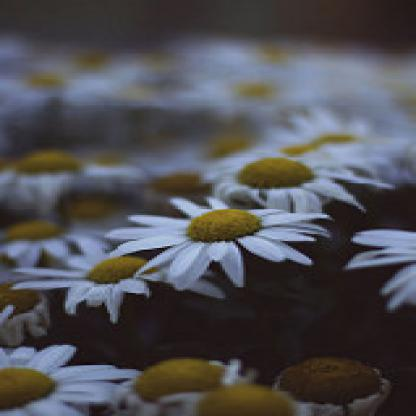ASTER: (14, 13, 401, 410)
